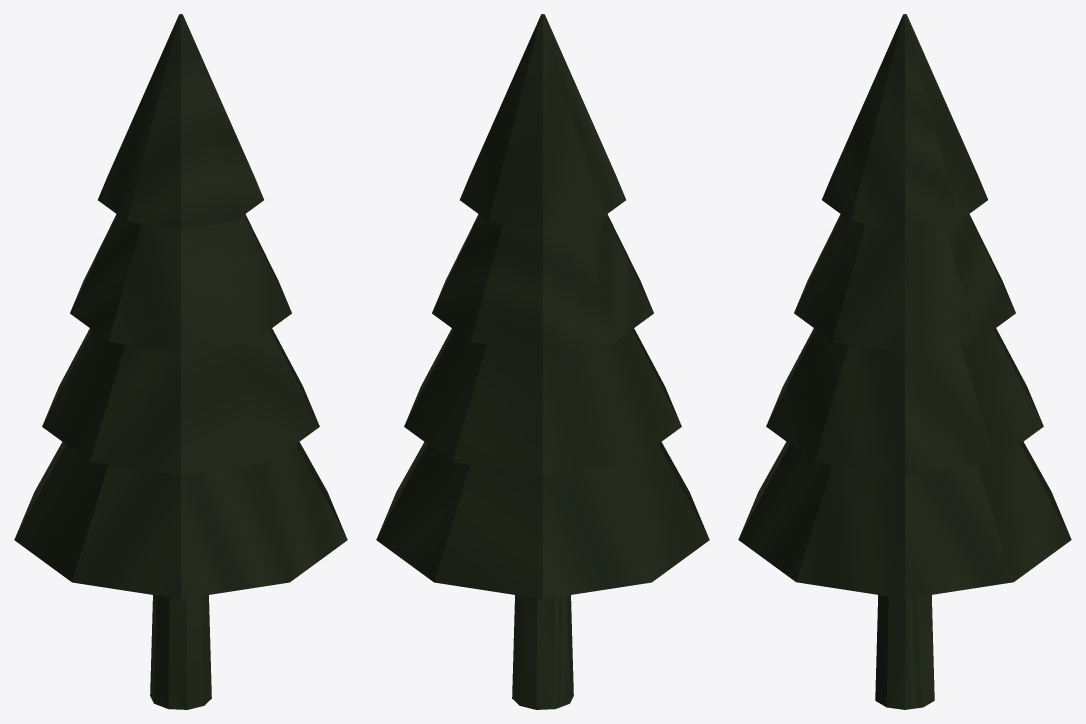
The model's file is env_tree_pine_tall_a.glb.
The picture shows the model from 3 angles, left to right: view 1: azimuth 30°, elevation 25°; view 2: azimuth 150°, elevation 25°; view 3: azimuth 270°, elevation 25°; orthographic projection.
Visible parts, largest first — view 1: env_tree_pine_tall_a; view 2: env_tree_pine_tall_a; view 3: env_tree_pine_tall_a.
Boxes of the visible parts, x1=… form: env_tree_pine_tall_a: x1=14, y1=14, x2=347, y2=709; env_tree_pine_tall_a: x1=376, y1=14, x2=709, y2=709; env_tree_pine_tall_a: x1=738, y1=14, x2=1071, y2=709.
Size of the model in its own units: 2.33 by 5.34 by 2.36.
Materials: 1 (1 with a texture image).
